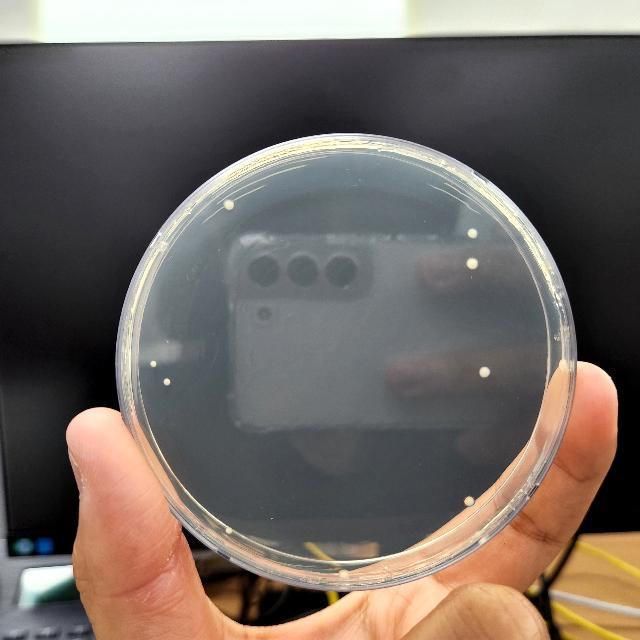colony: (479, 366, 491, 378), (466, 258, 478, 270), (558, 359, 568, 371), (464, 496, 474, 506), (467, 228, 477, 238), (224, 200, 234, 210), (338, 570, 350, 578), (163, 378, 170, 386), (225, 526, 232, 534), (151, 360, 157, 368)
